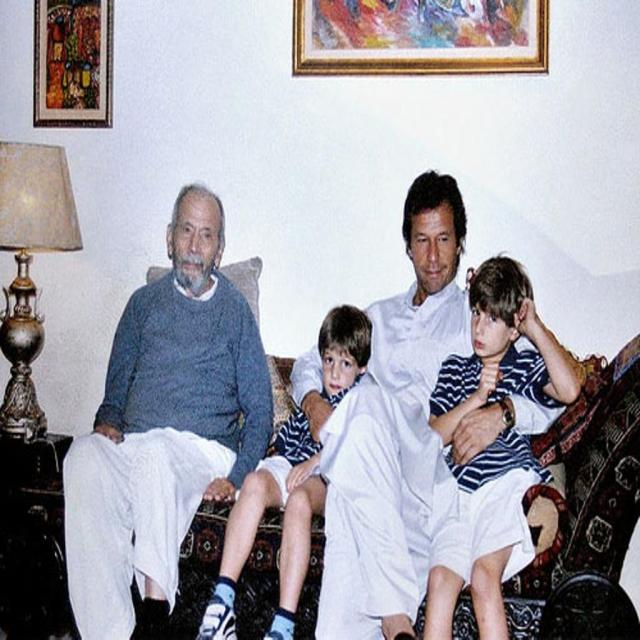nomask: (172, 208, 218, 282), (412, 215, 456, 291), (471, 299, 509, 355), (323, 347, 358, 396)
